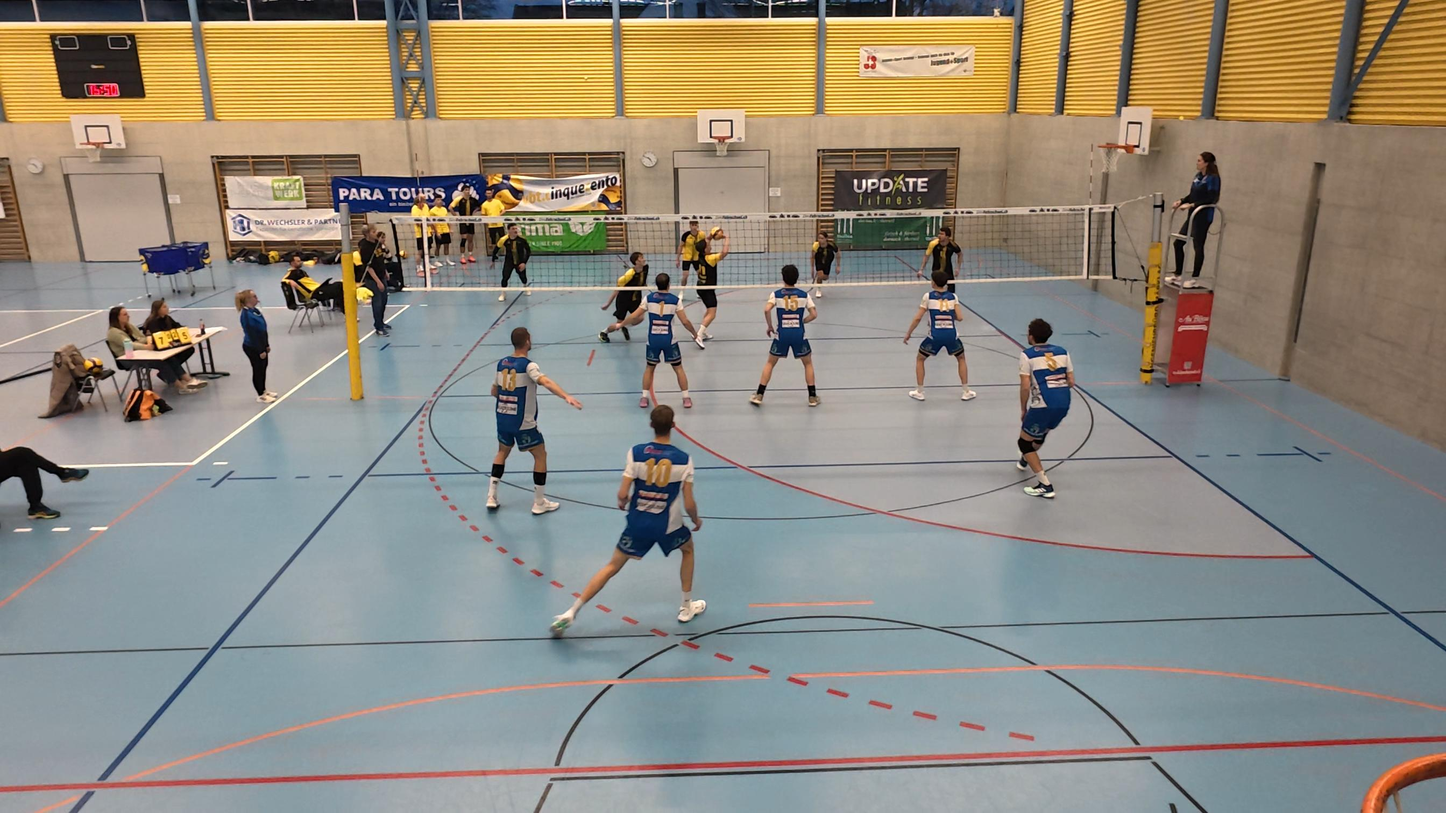alzata: (687, 225, 727, 348)
